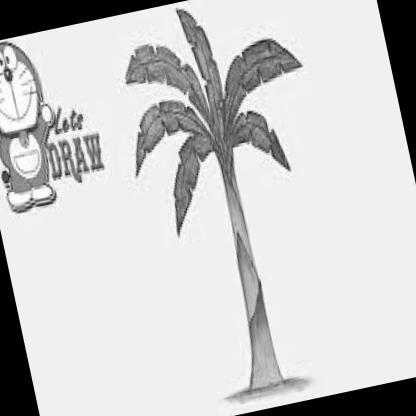crown_dizzy: (102, 0, 332, 240)
root_none: (240, 356, 299, 409)
trunk_bark: (221, 194, 268, 310)
